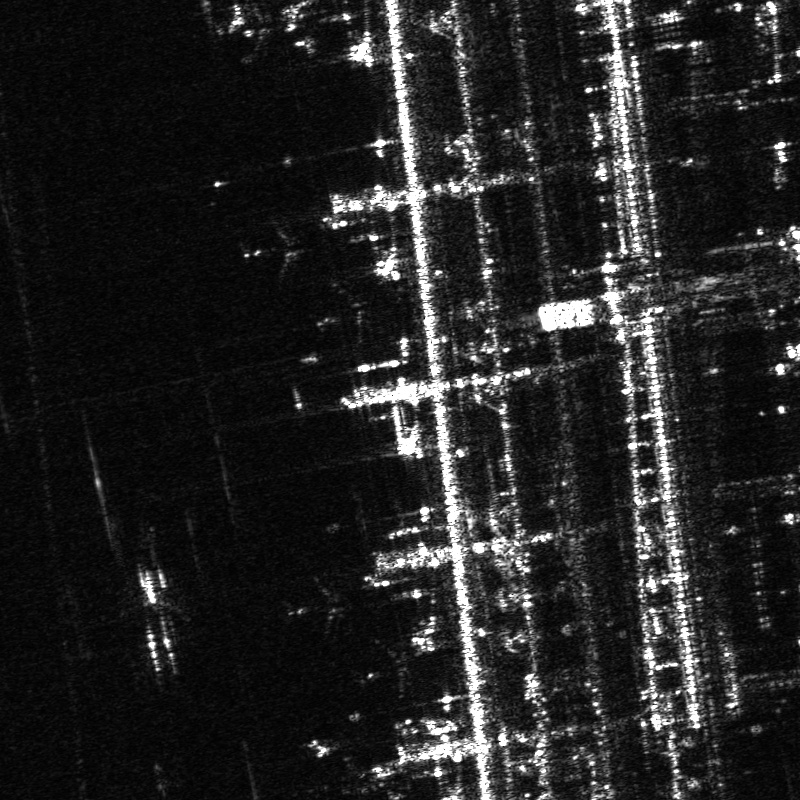Boeing787: (243, 216, 323, 284), (288, 575, 355, 638), (314, 284, 383, 341), (361, 641, 421, 699)
